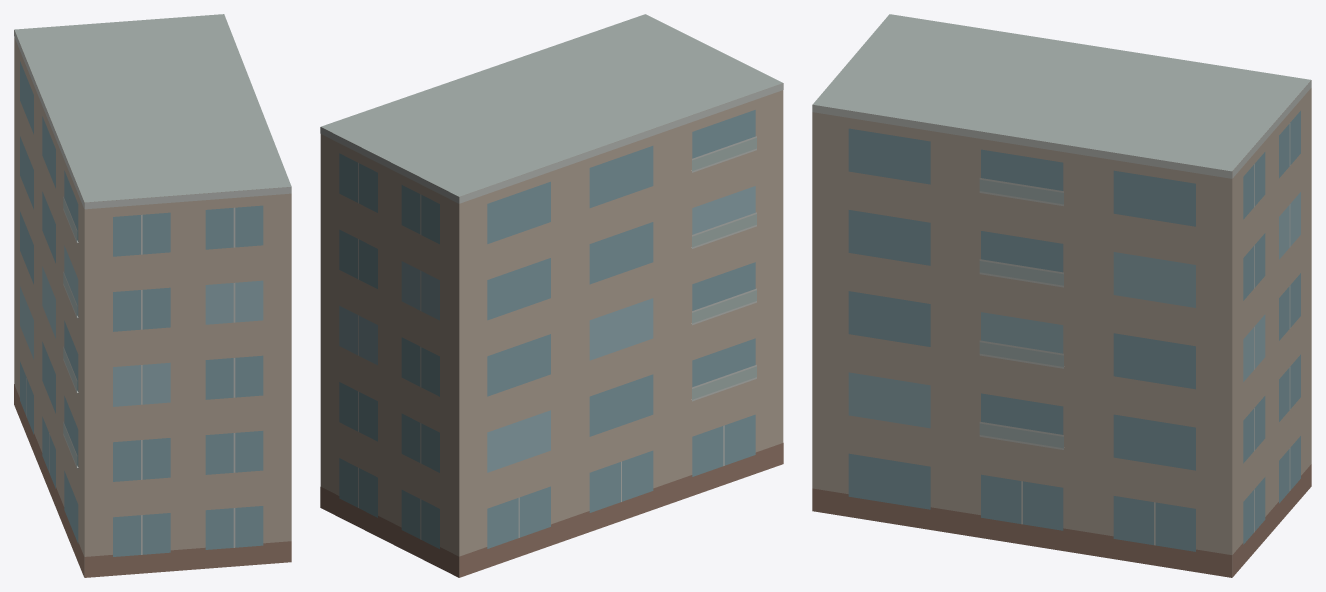
The model's file is survey-upis-32882614.glb.
The picture shows the model from 3 angles, left to right: view 1: azimuth 30°, elevation 25°; view 2: azimuth 150°, elevation 25°; view 3: azimuth 270°, elevation 25°; orthographic projection. The views are drawn at different scales.
Visible parts, largest first — view 1: survey-upis-32882614.tmp; view 2: survey-upis-32882614.tmp; view 3: survey-upis-32882614.tmp.
Part boxes in pixels (bbox=[...]): survey-upis-32882614.tmp: bbox=[14, 14, 291, 577]; survey-upis-32882614.tmp: bbox=[320, 14, 783, 577]; survey-upis-32882614.tmp: bbox=[812, 14, 1311, 577].
Size of the model in its own units: 11.06 by 13.3 by 14.81.
